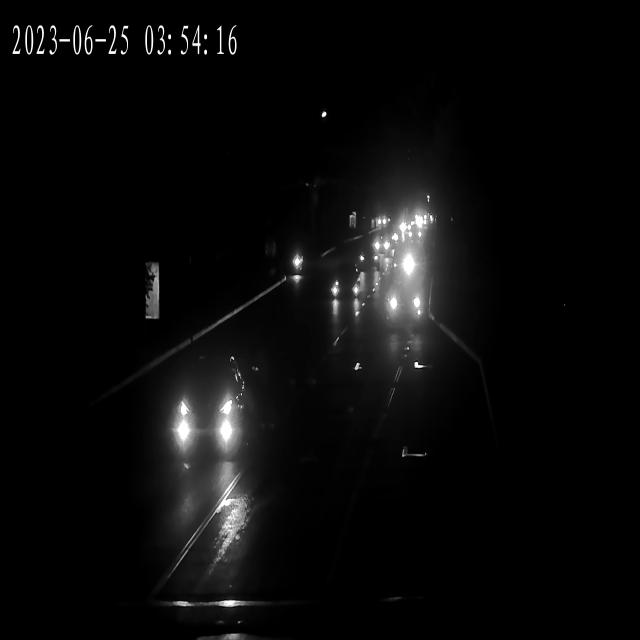Car: (155, 357, 252, 462), (382, 284, 422, 322), (330, 267, 366, 305), (369, 229, 392, 254), (370, 234, 393, 257), (400, 223, 425, 241), (399, 221, 423, 238), (394, 220, 418, 237), (394, 217, 414, 235), (386, 228, 404, 247), (412, 212, 429, 226), (369, 214, 386, 228), (372, 214, 389, 227)
